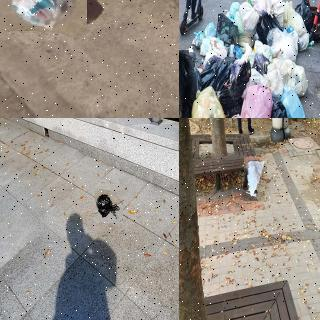Garbage: (0, 0, 89, 33), (191, 88, 231, 118), (242, 80, 273, 118), (243, 157, 266, 202), (94, 190, 124, 224), (288, 5, 310, 49), (280, 87, 307, 118), (241, 2, 261, 35), (295, 0, 315, 30)
